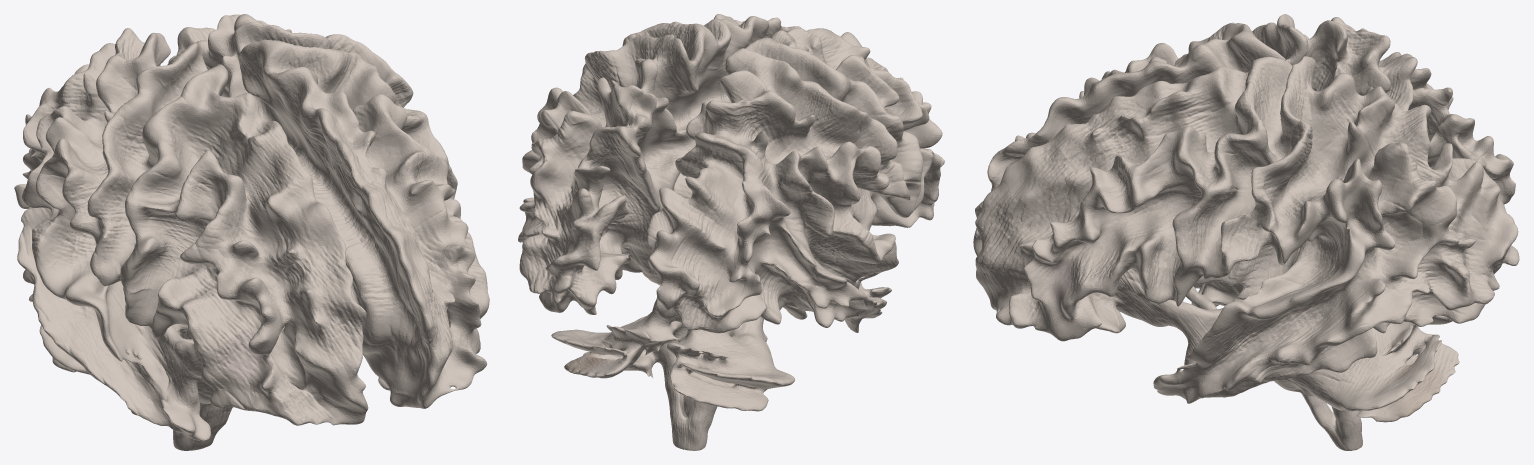
File: Tracts.glb
3 renders of one model, left to right at view 1: azimuth 30°, elevation 25°; view 2: azimuth 150°, elevation 25°; view 3: azimuth 270°, elevation 25°, orthographic. The views are drawn at different scales.
Visible parts, largest first — view 1: Brain Tractographic Segmentation 1; view 2: Brain Tractographic Segmentation 1; view 3: Brain Tractographic Segmentation 1.
Boxes of the visible parts, x1,y1,x2,y2 form: Brain Tractographic Segmentation 1: [14, 14, 489, 450]; Brain Tractographic Segmentation 1: [518, 14, 944, 450]; Brain Tractographic Segmentation 1: [973, 14, 1519, 450].
Bounding box in the file's own units: 30.27 × 33.22 × 40.74.
